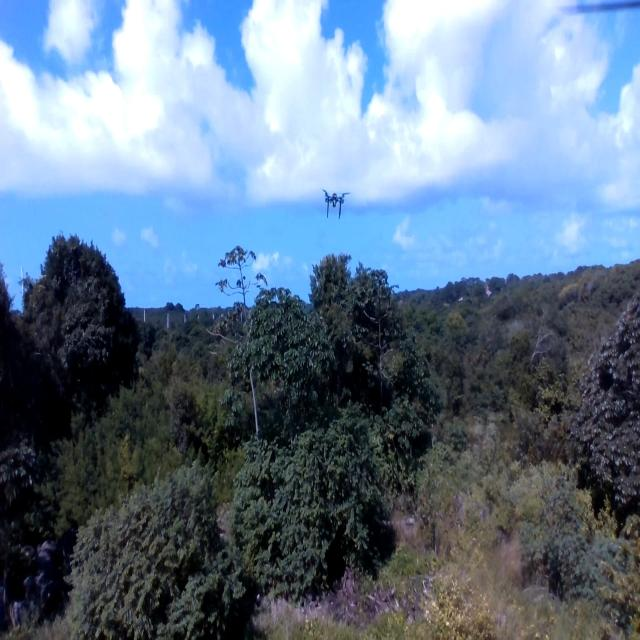-uav-: (316, 180, 355, 224)
